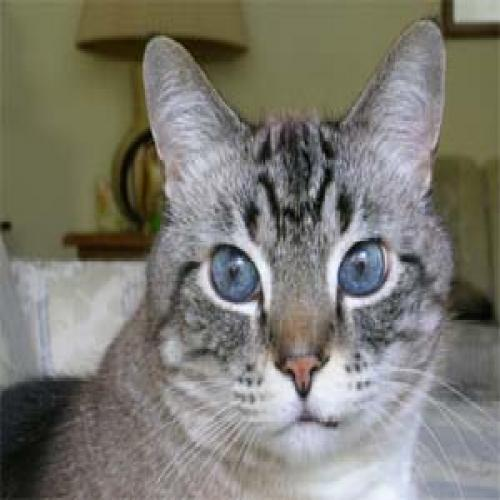bengal: (131, 18, 466, 472)
